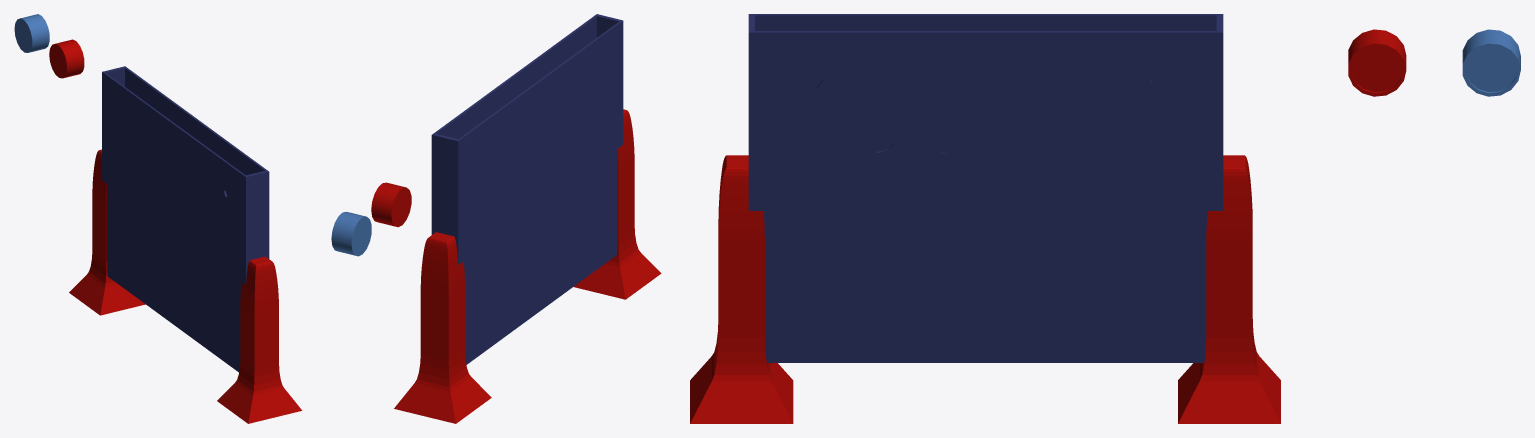
File: connect 2.fbx
3 renders of one model, left to right at view 1: azimuth 30°, elevation 25°; view 2: azimuth 150°, elevation 25°; view 3: azimuth 270°, elevation 25°, orthographic. The views are drawn at different scales.
Visible parts, largest first — view 1: Cube.011, Cylinder.001, Cylinder.002; view 2: Cube.011, Cylinder.001, Cylinder.002; view 3: Cube.011, Cylinder.002, Cylinder.001.
Boxes of the visible parts, left/top/right/bottom form: Cube.011: left=69, top=66, right=302, bottom=423; Cylinder.001: left=49, top=39, right=84, bottom=78; Cylinder.002: left=14, top=14, right=49, bottom=52; Cube.011: left=394, top=14, right=661, bottom=423; Cylinder.001: left=371, top=182, right=411, bottom=227; Cylinder.002: left=331, top=211, right=371, bottom=256; Cube.011: left=690, top=14, right=1280, bottom=423; Cylinder.002: left=1462, top=29, right=1520, bottom=96; Cylinder.001: left=1348, top=29, right=1406, bottom=96.
Size of the model in its own units: 4.21 by 17.04 by 33.86.
